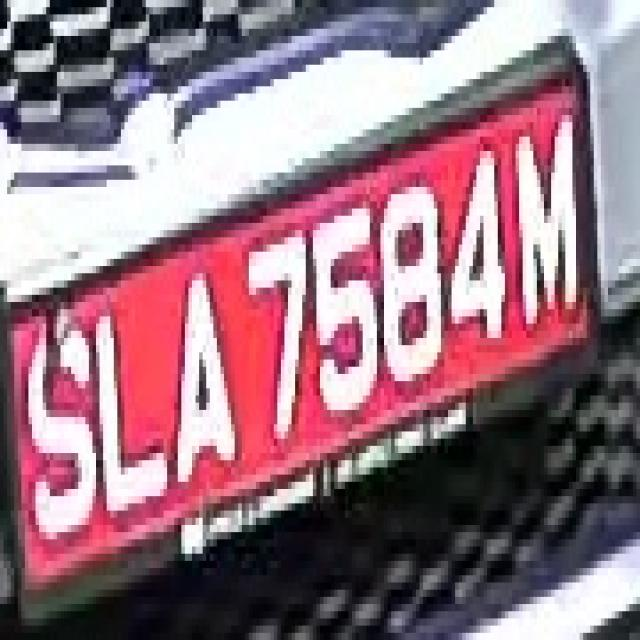4: (441, 130, 519, 360)
5: (306, 209, 380, 453)
7: (235, 216, 316, 453)
8: (370, 172, 455, 402)
A: (160, 259, 249, 503)
L: (89, 280, 167, 540)
M: (508, 93, 586, 338)
S: (22, 287, 92, 554)
